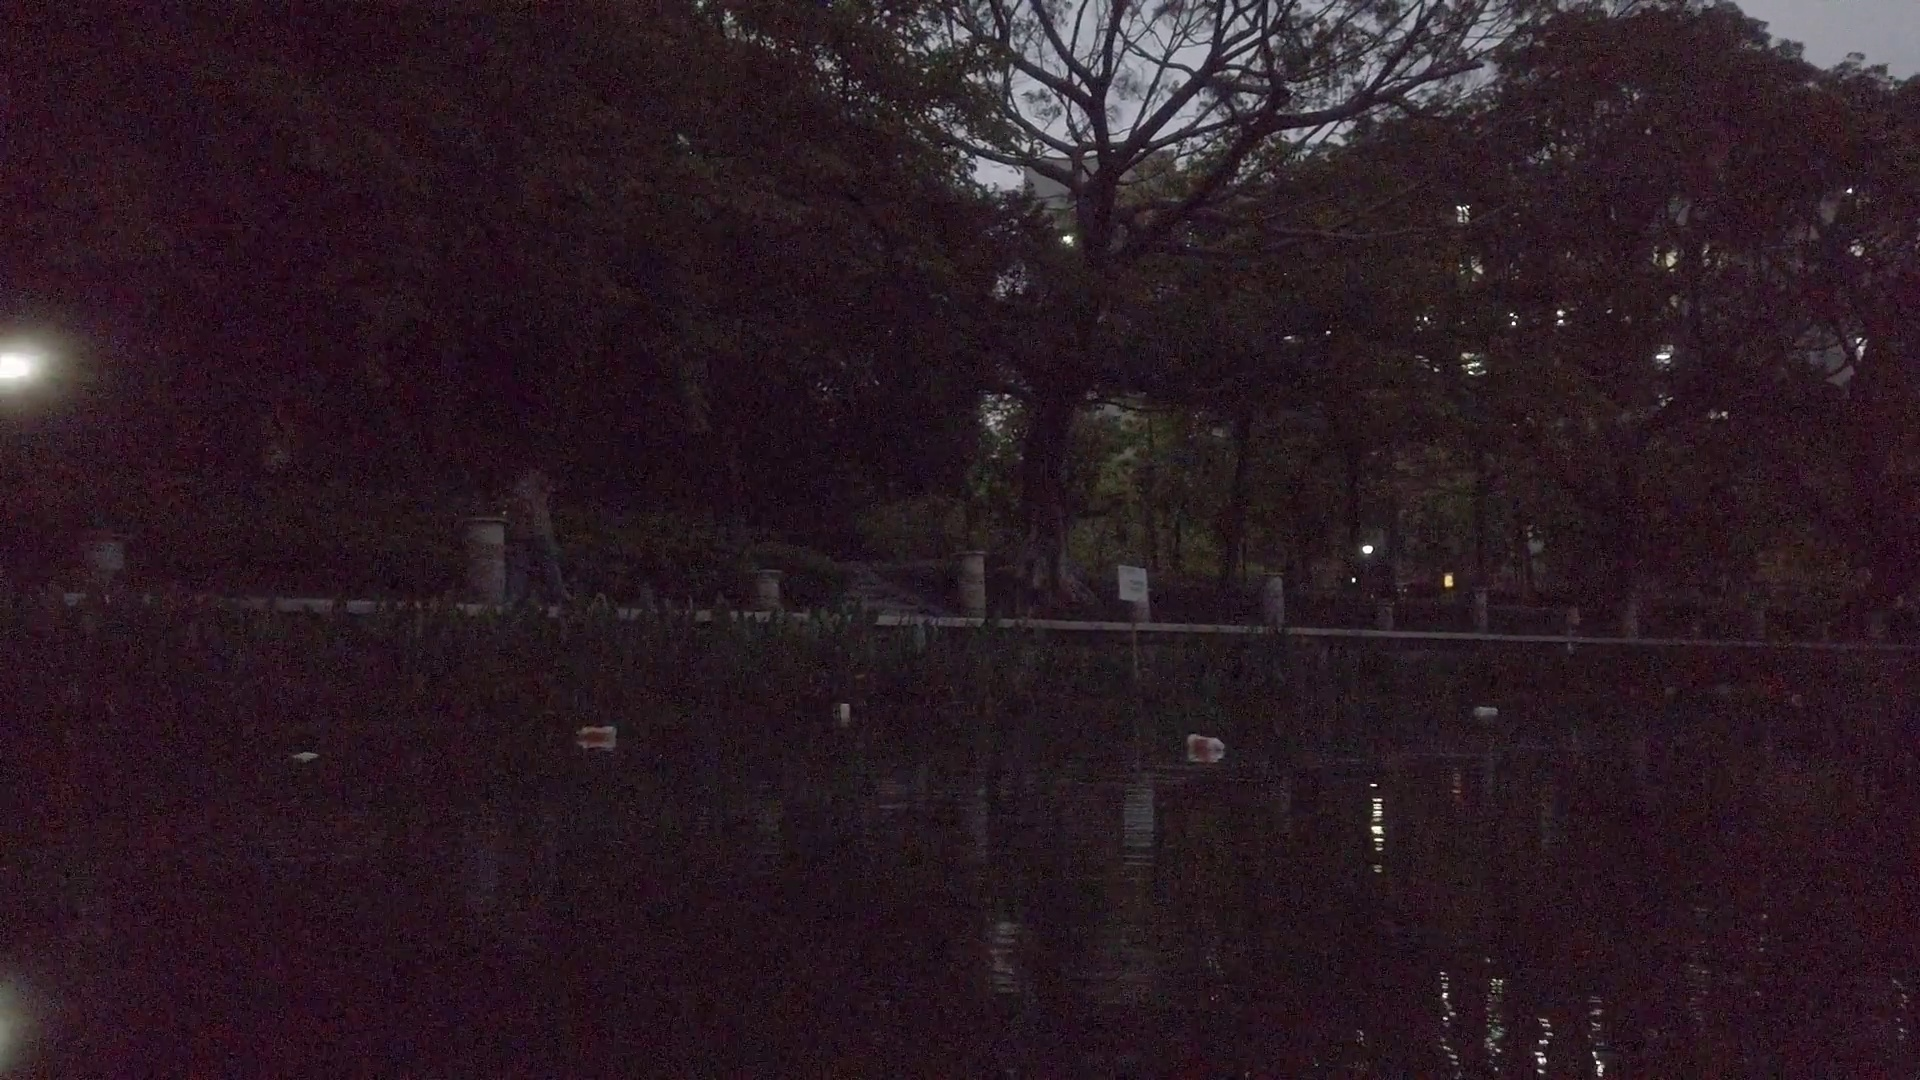bottle: (1185, 729, 1225, 757), (578, 727, 618, 742)
carton: (1473, 704, 1501, 717), (837, 702, 851, 719)
paper: (295, 749, 318, 764)
